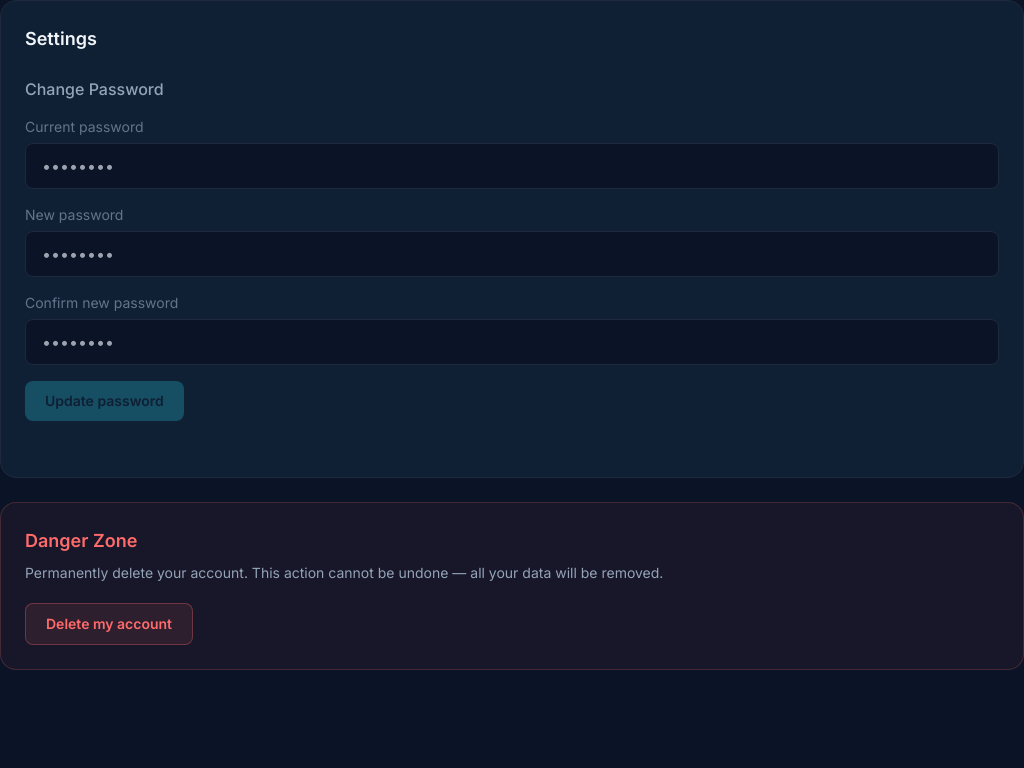
AccountSettings — password change › surfaces API error
Type "oldpass1" into the password field with placeholder "••••••••" below "Current password" at [512, 166], box [25,143,999,189]
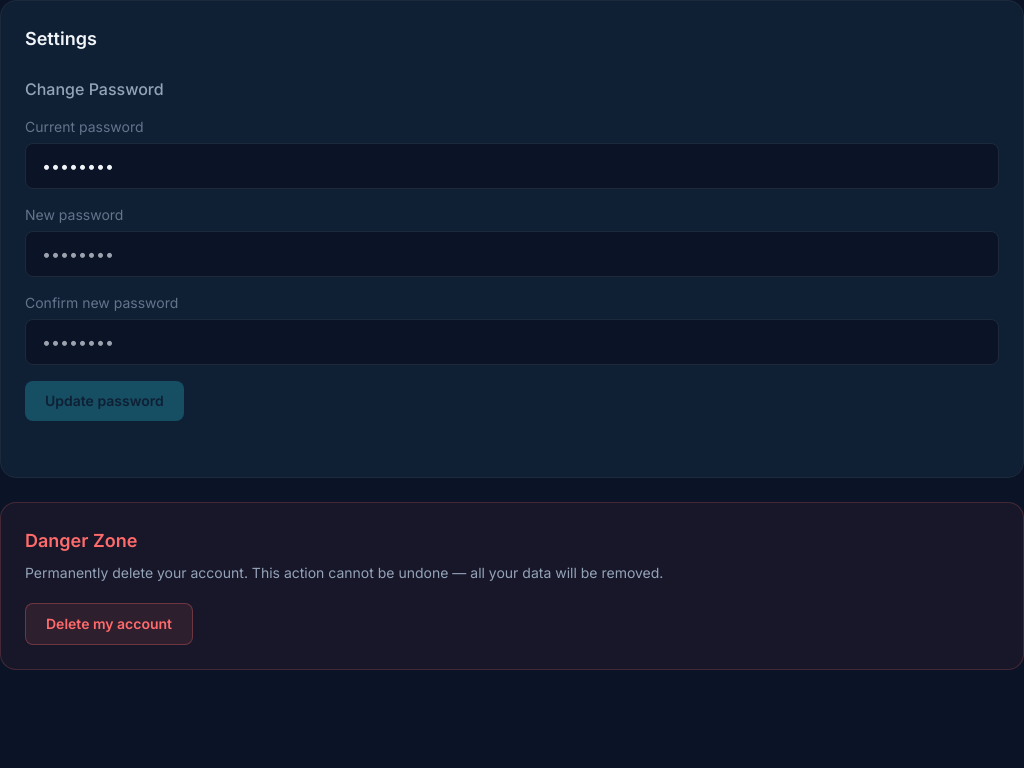
Type "newpass12" into the 1st password field with placeholder "••••••••" at [512, 254], box [25,231,999,277]
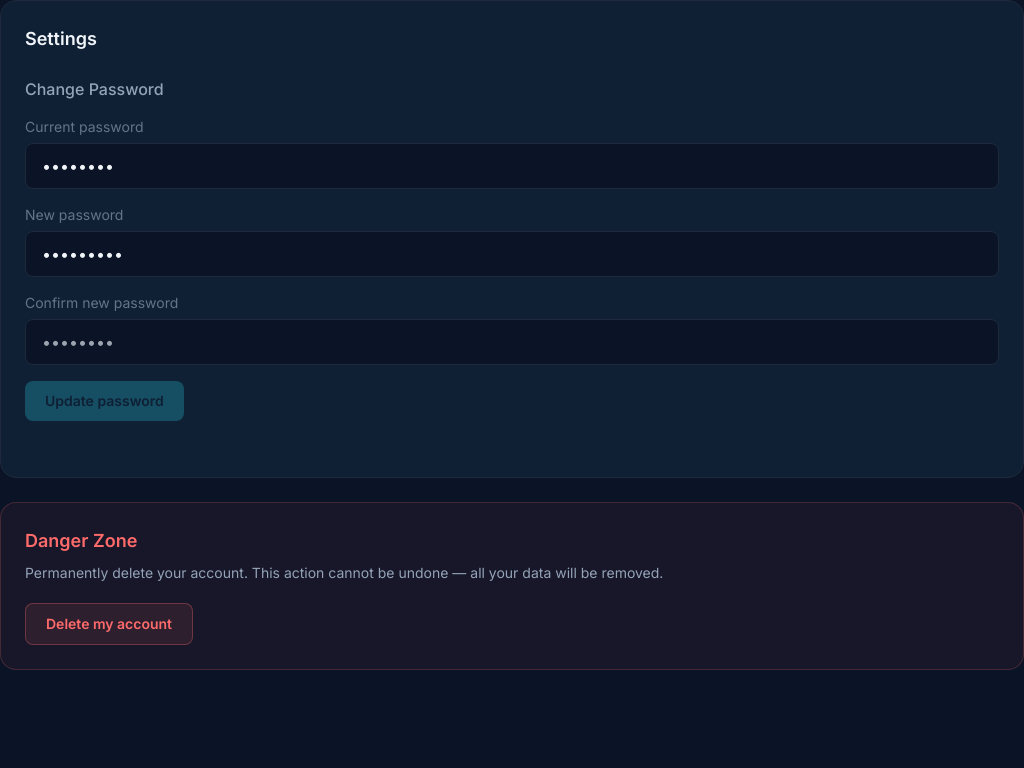
Type "newpass12" into the password field with placeholder "••••••••" at [512, 342], box [25,319,999,365]
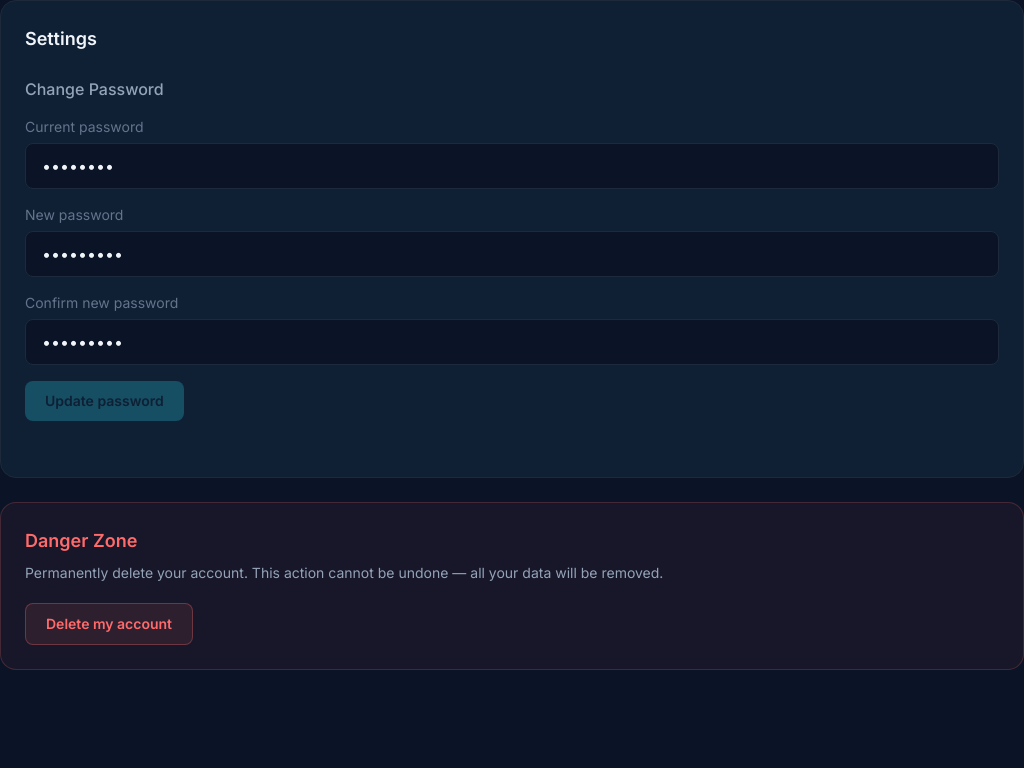
Submit the form, box [25,117,999,421]
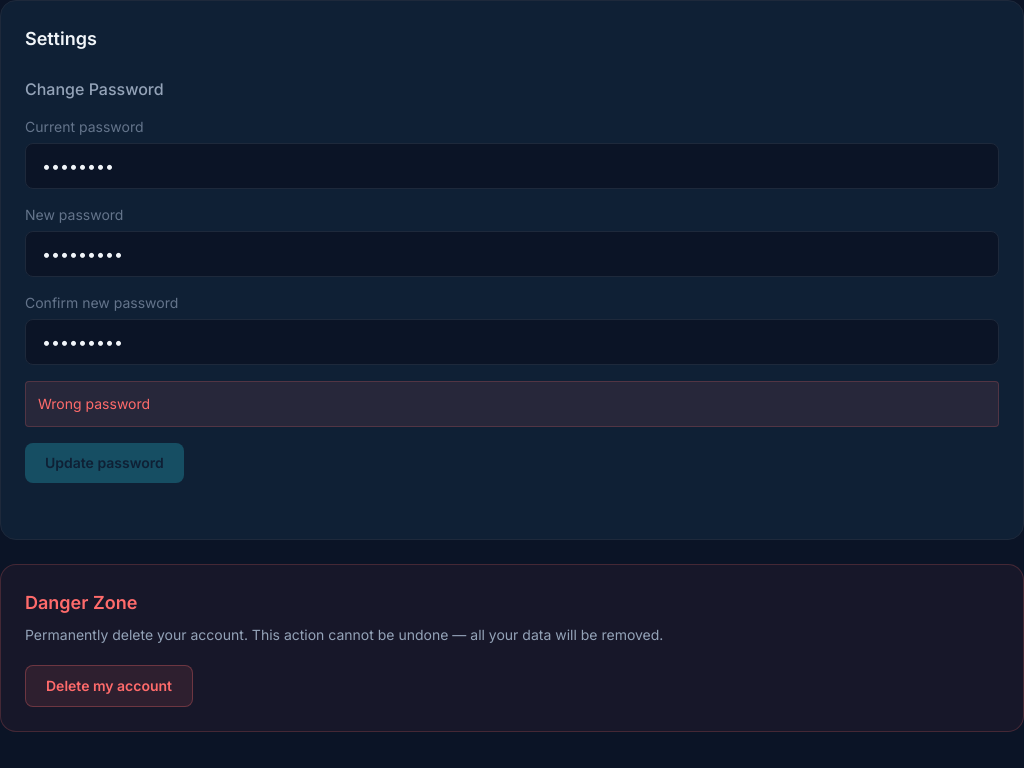
Check: the text "Wrong password" is shown, box [25,381,999,427]
